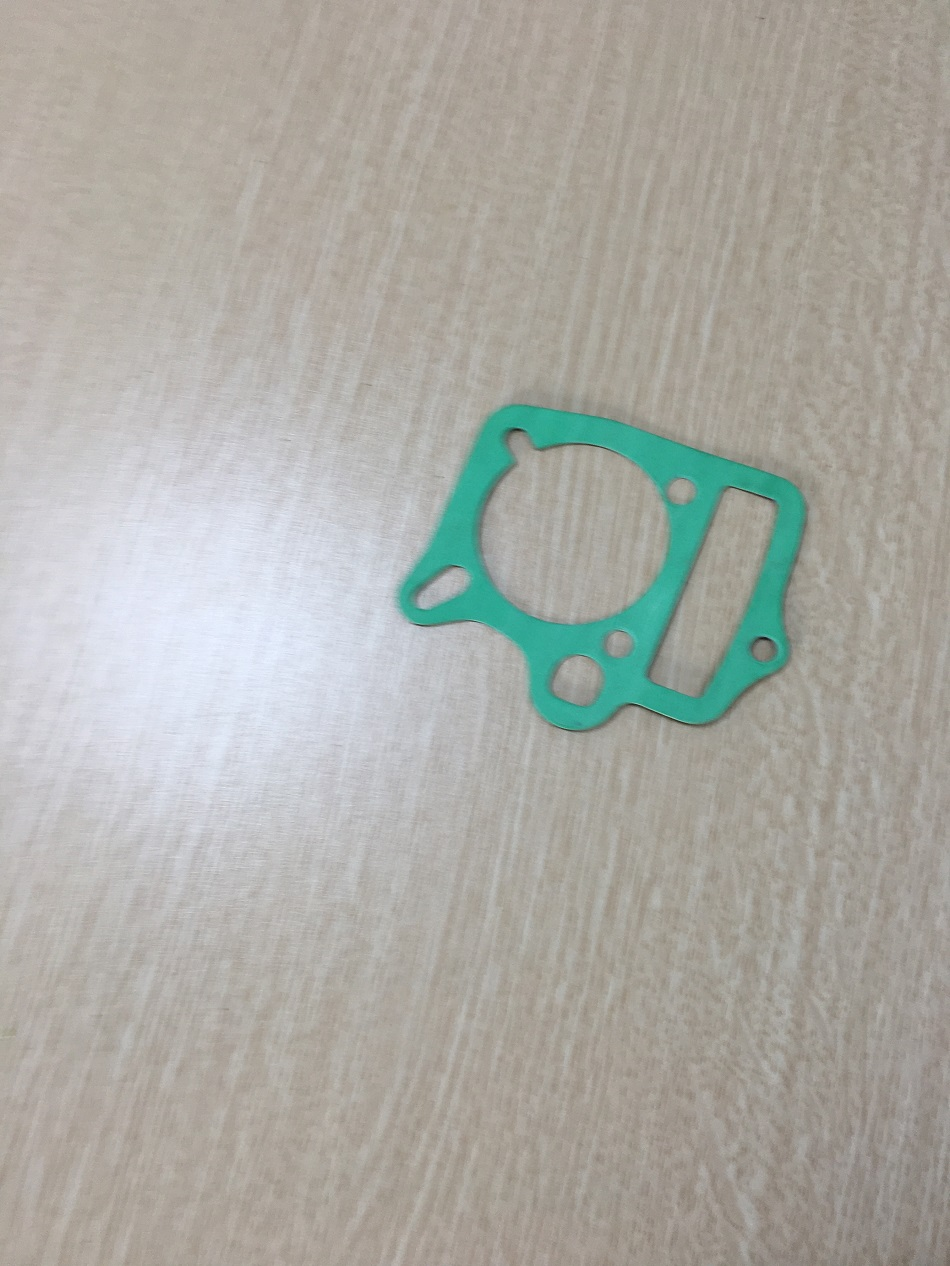circle 1: (458, 406, 683, 640)
circle 2: (523, 640, 614, 727)
circle 3: (387, 546, 491, 623)
circle 4: (654, 459, 716, 517)
circle 5: (733, 623, 795, 683)
circle 6: (633, 477, 795, 729)
object: (356, 363, 852, 808)
